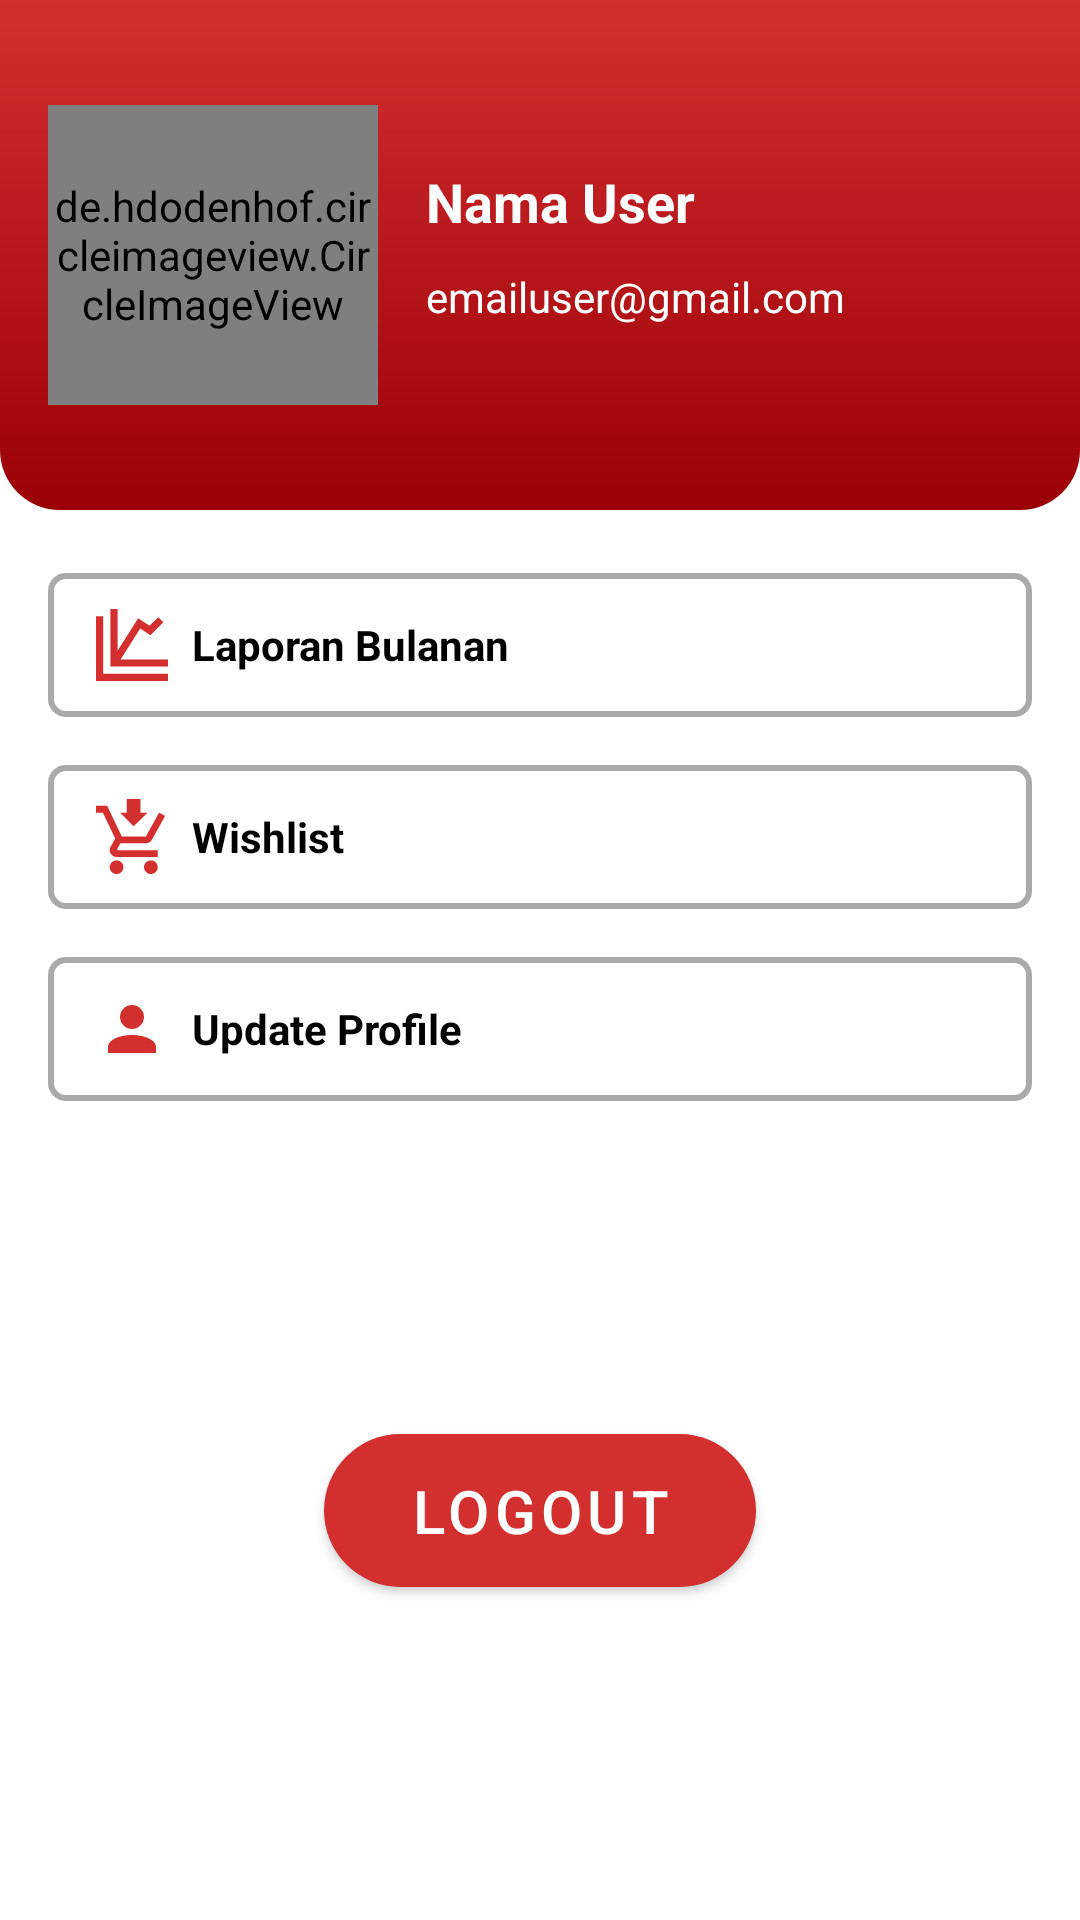

Locate icon controls on the screen. Image size 1080 × 1920, boxes as (x1, y1, x2, y2).
statistic: (96, 609, 168, 681)
wish product: (96, 799, 165, 874)
